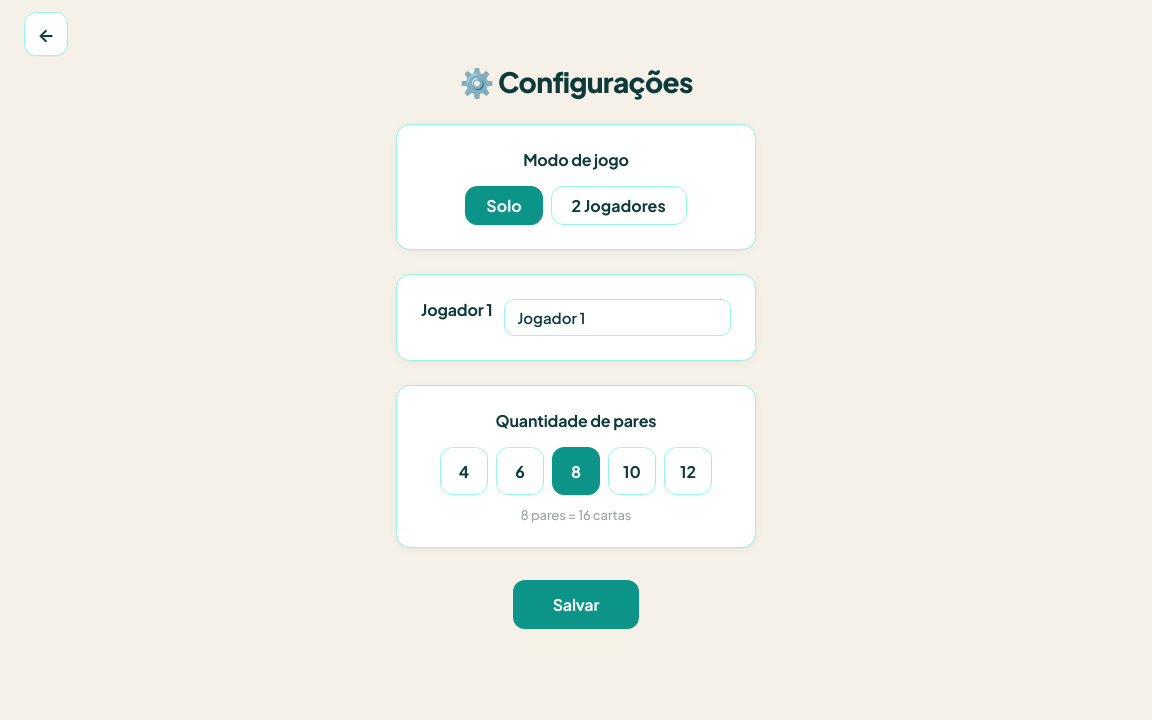
Test: CONTRACT: guard de alterações não salvas › mostra dialog de confirmação ao voltar com alterações pendentes
Click the button "6": coordinates (520, 471) [496,447,544,495]
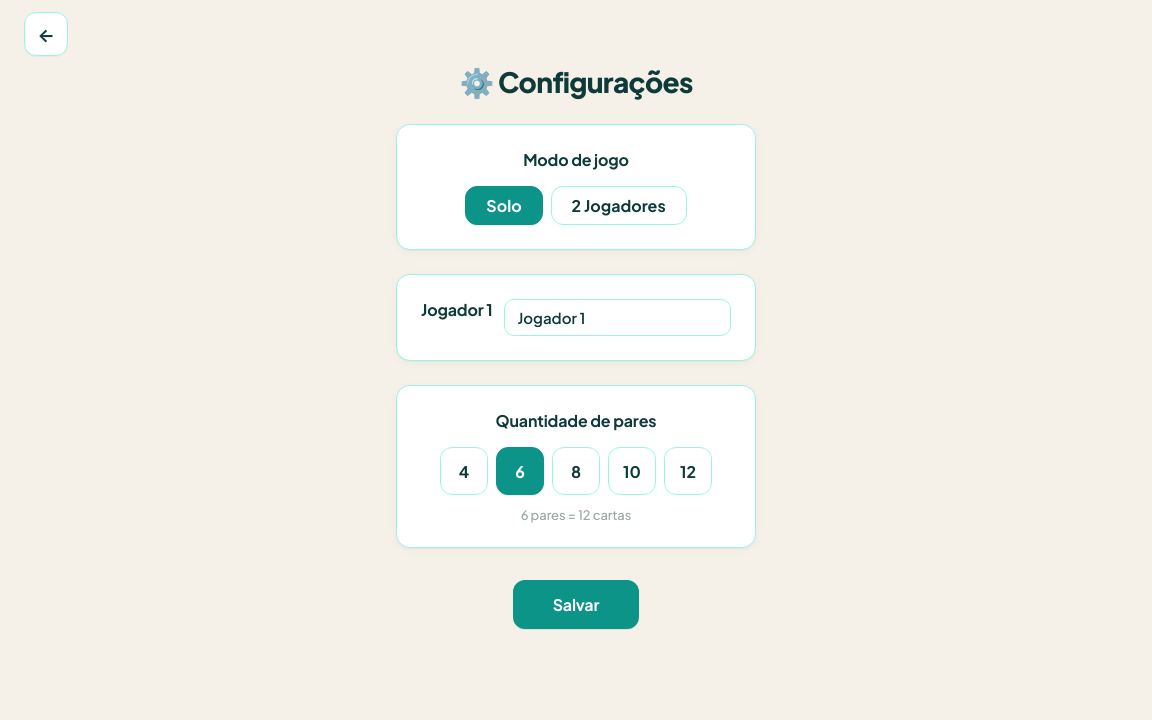
Click the button "←": coordinates (46, 34) [24,12,68,56]
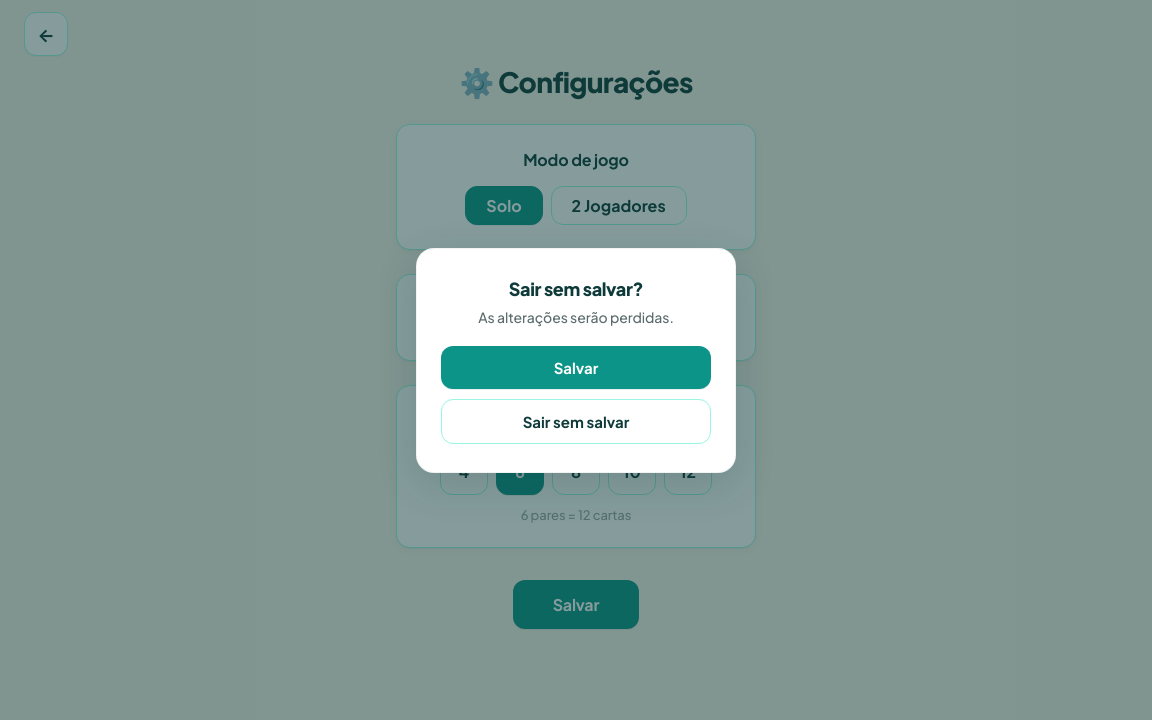
Now the text "Sair sem salvar?" is shown, box [509,276,643,300]
